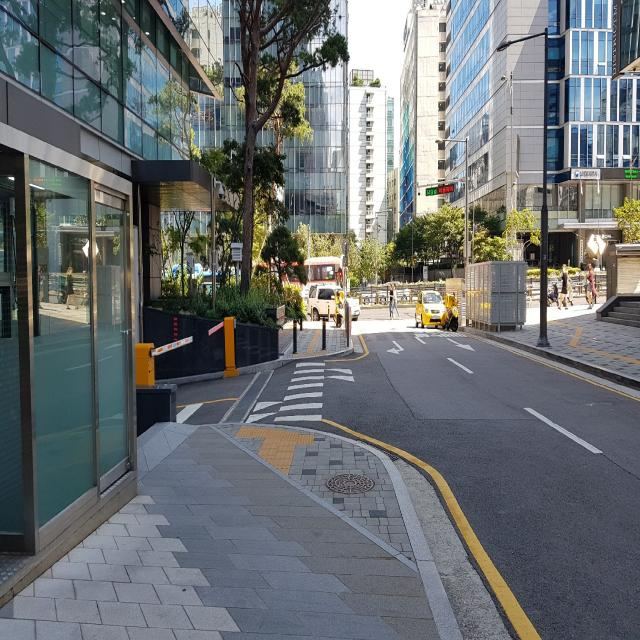횡단보도: (274, 362, 326, 422)
